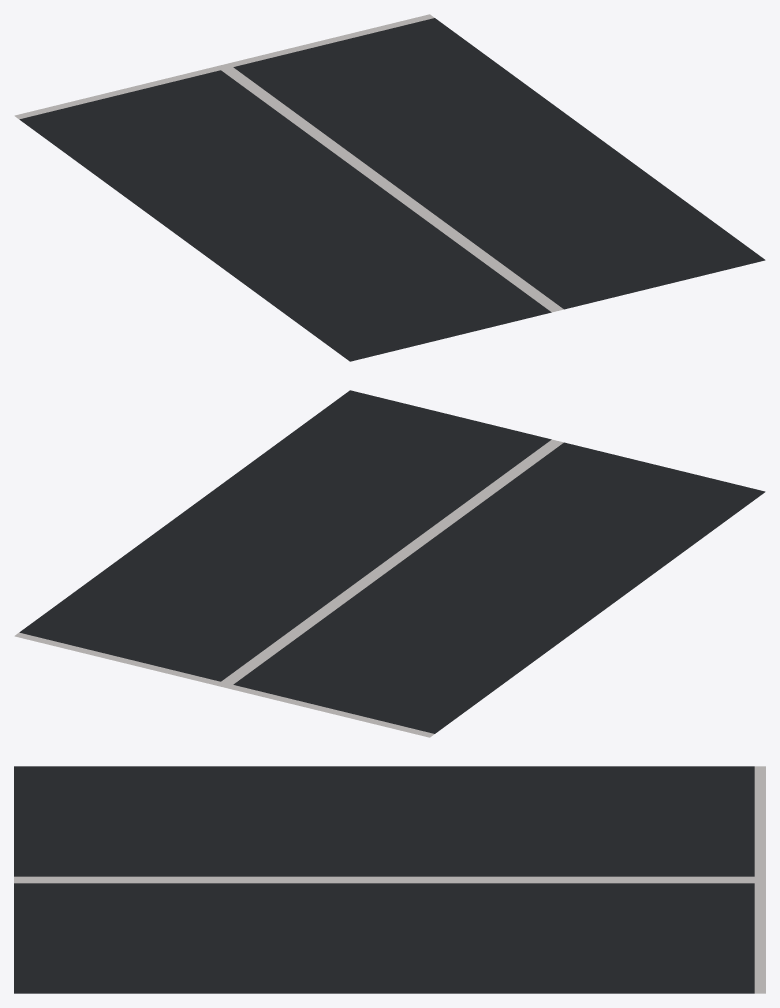
The model's file is ParkingTile_2.fbx.
The picture shows the model from 3 angles, top to bottom: view 1: azimuth 30°, elevation 25°; view 2: azimuth 150°, elevation 25°; view 3: azimuth 270°, elevation 25°; orthographic projection. The views are drawn at different scales.
Visible parts, largest first — view 1: ParkingTile_2; view 2: ParkingTile_2; view 3: ParkingTile_2.
Boxes of the visible parts, x1=… form: ParkingTile_2: x1=14, y1=14, x2=765, y2=361; ParkingTile_2: x1=14, y1=390, x2=765, y2=737; ParkingTile_2: x1=14, y1=766, x2=765, y2=993.
Bounding box in the file's own units: 500 × 0 × 700.
